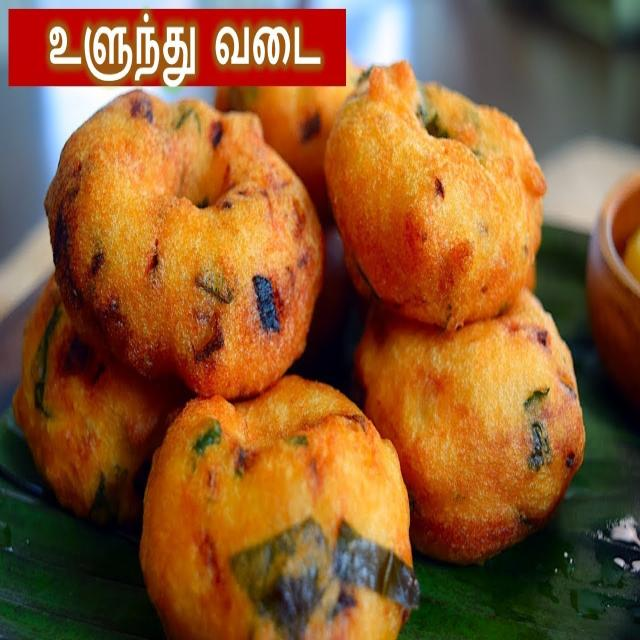medu vadai: (16, 49, 584, 640), (15, 81, 589, 640), (49, 91, 319, 396), (143, 374, 409, 639), (327, 61, 545, 330), (14, 268, 188, 527), (216, 52, 349, 224)
